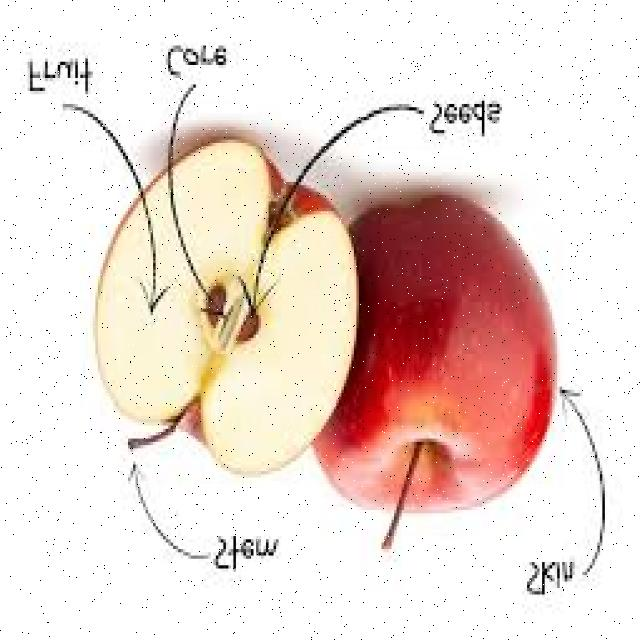Apple: (83, 142, 356, 470), (339, 183, 562, 506)
